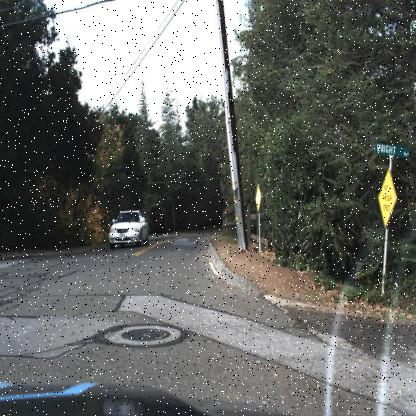car: (107, 208, 151, 248)
